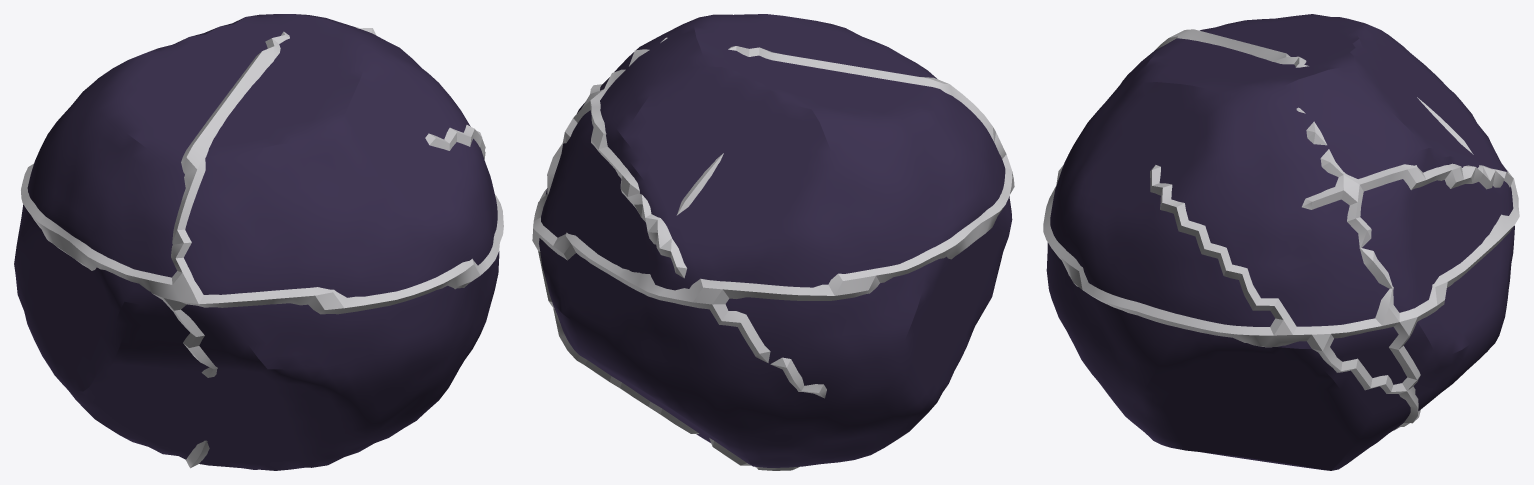
Rendered from RockRune.fbx.
3 renders of one model, left to right at view 1: azimuth 30°, elevation 25°; view 2: azimuth 150°, elevation 25°; view 3: azimuth 270°, elevation 25°, orthographic. The views are drawn at different scales.
Parts seen in each view (by area): view 1: RockRune_Body, RockRune_Glow; view 2: RockRune_Body, RockRune_Glow; view 3: RockRune_Body, RockRune_Glow.
Part boxes in pixels (<box>): RockRune_Body: <box>14,14,499,470</box>; RockRune_Glow: <box>21,27,503,468</box>; RockRune_Body: <box>539,14,1012,467</box>; RockRune_Glow: <box>532,37,1014,470</box>; RockRune_Body: <box>1046,14,1514,470</box>; RockRune_Glow: <box>1043,29,1519,430</box>.
Size of the model in its own units: 208 by 194 by 203.
